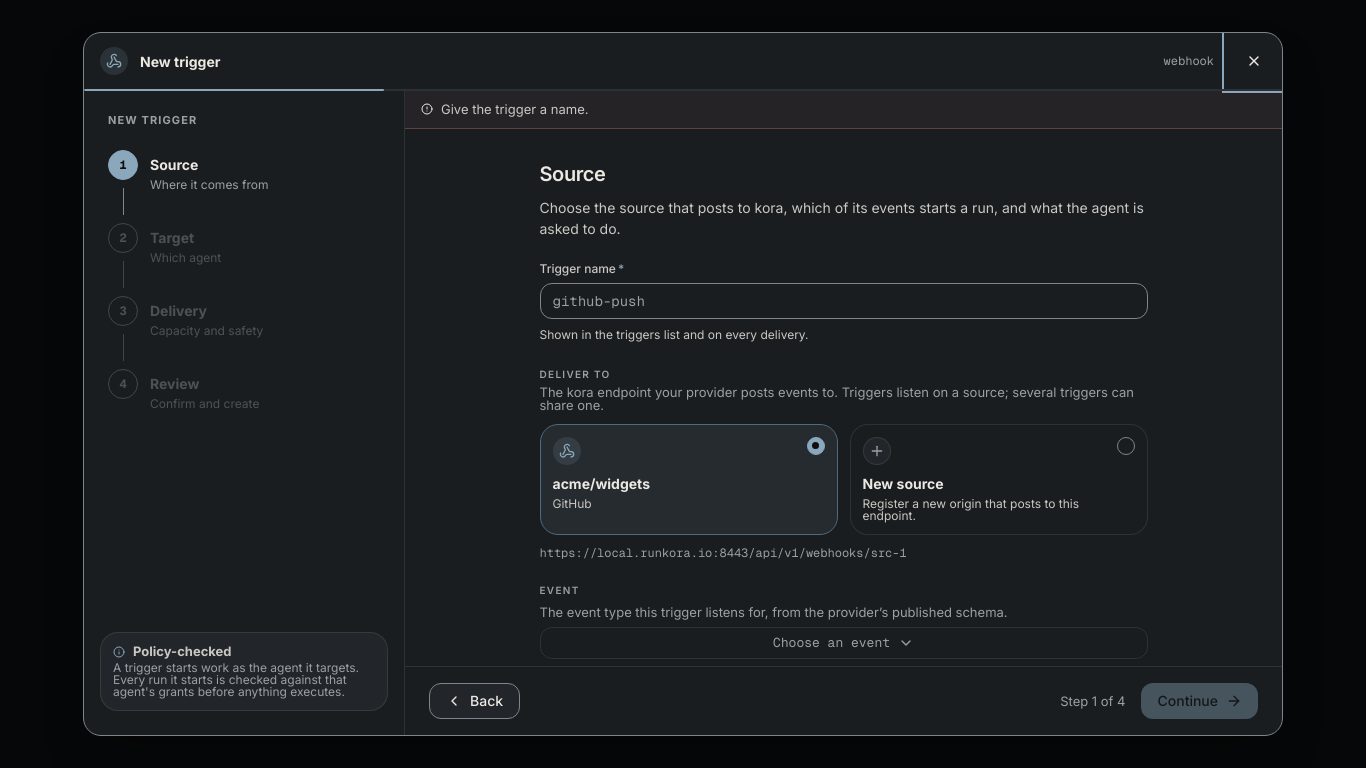
Test: filters and prompt fields › holds Continue until an event is chosen
The width and height of the screenshot is (1366, 768).
Type "gh" into the field labelled "Trigger name*".
click(844, 300); type("gh")  # box [540, 282, 1148, 318]
(page scrolled)
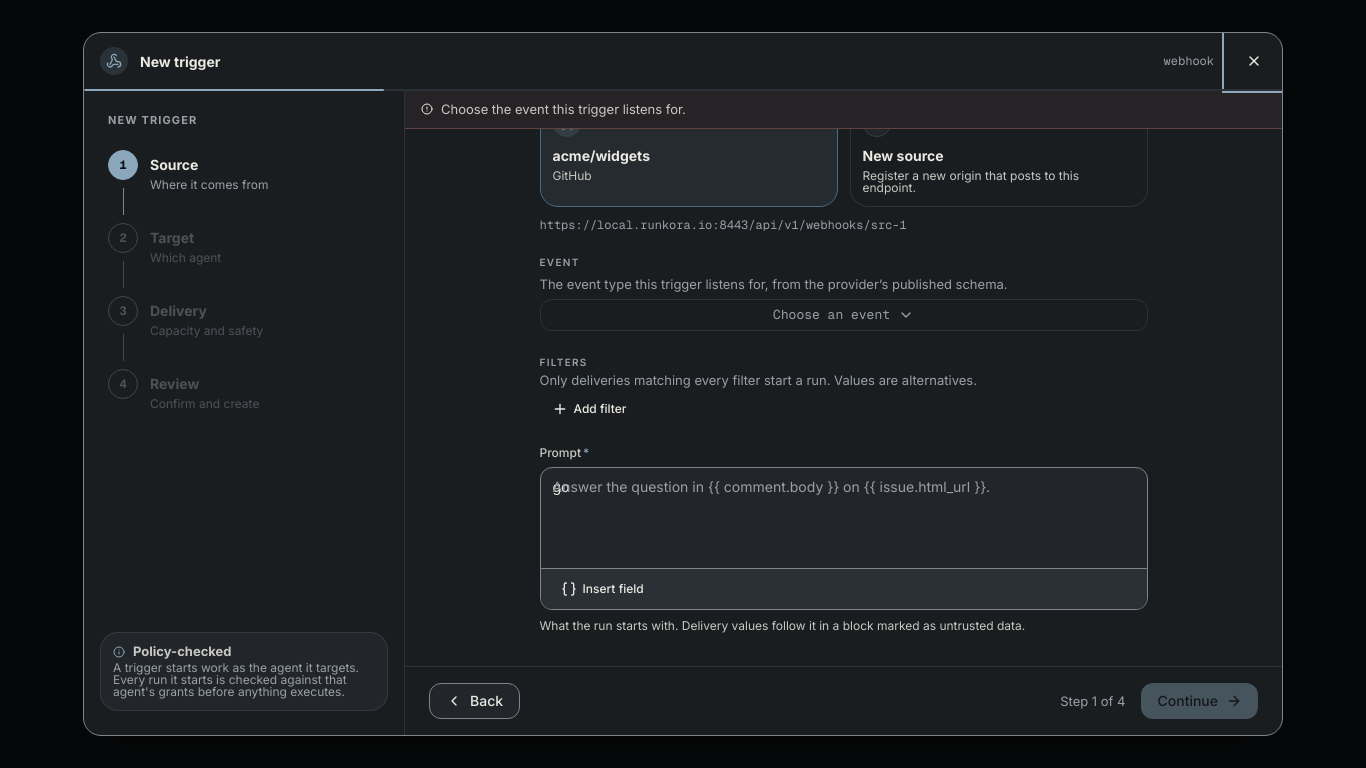
Clear the field named "Prompt" at (561, 486), box [552, 478, 570, 494]
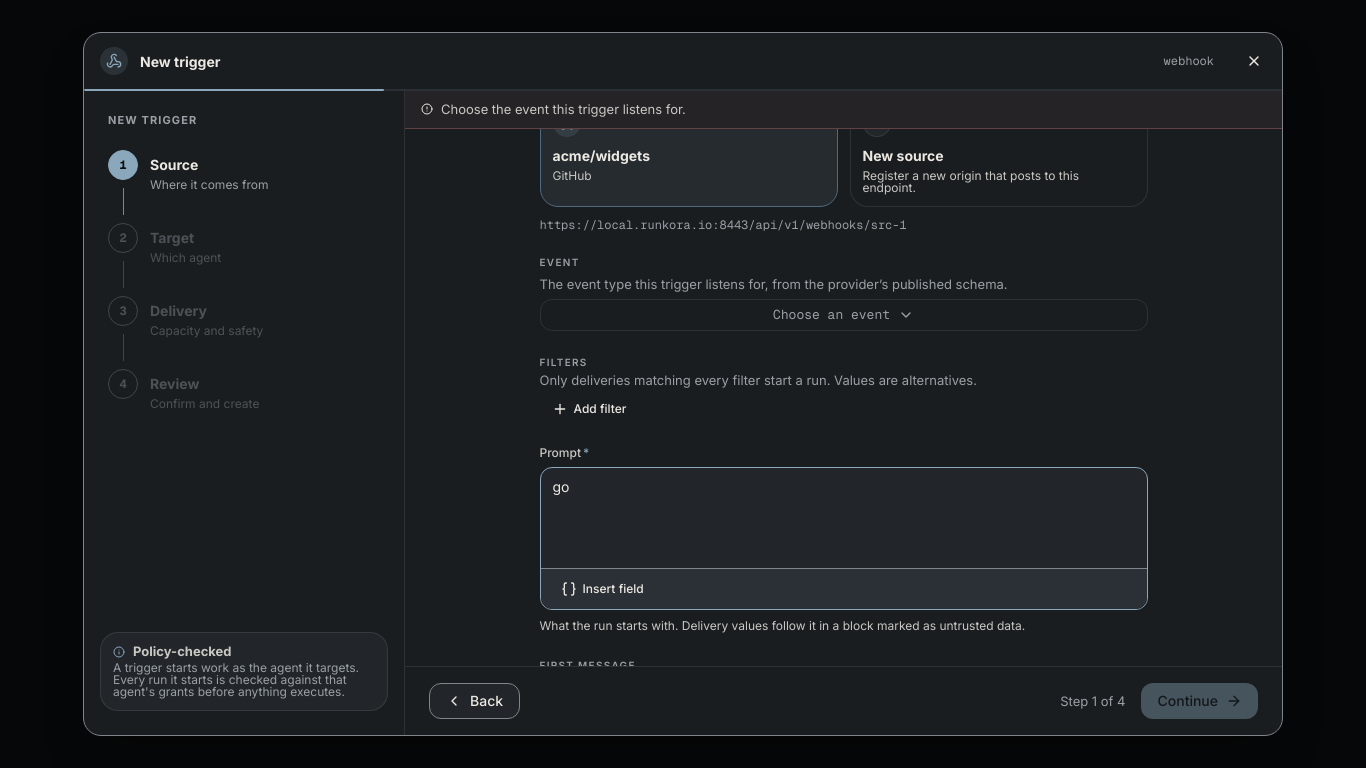
Expected: the button "Continue" is disabled, [1142, 683, 1258, 719]
Click the button with aria-label "Event type".
click(844, 314)  # box [540, 298, 1148, 330]
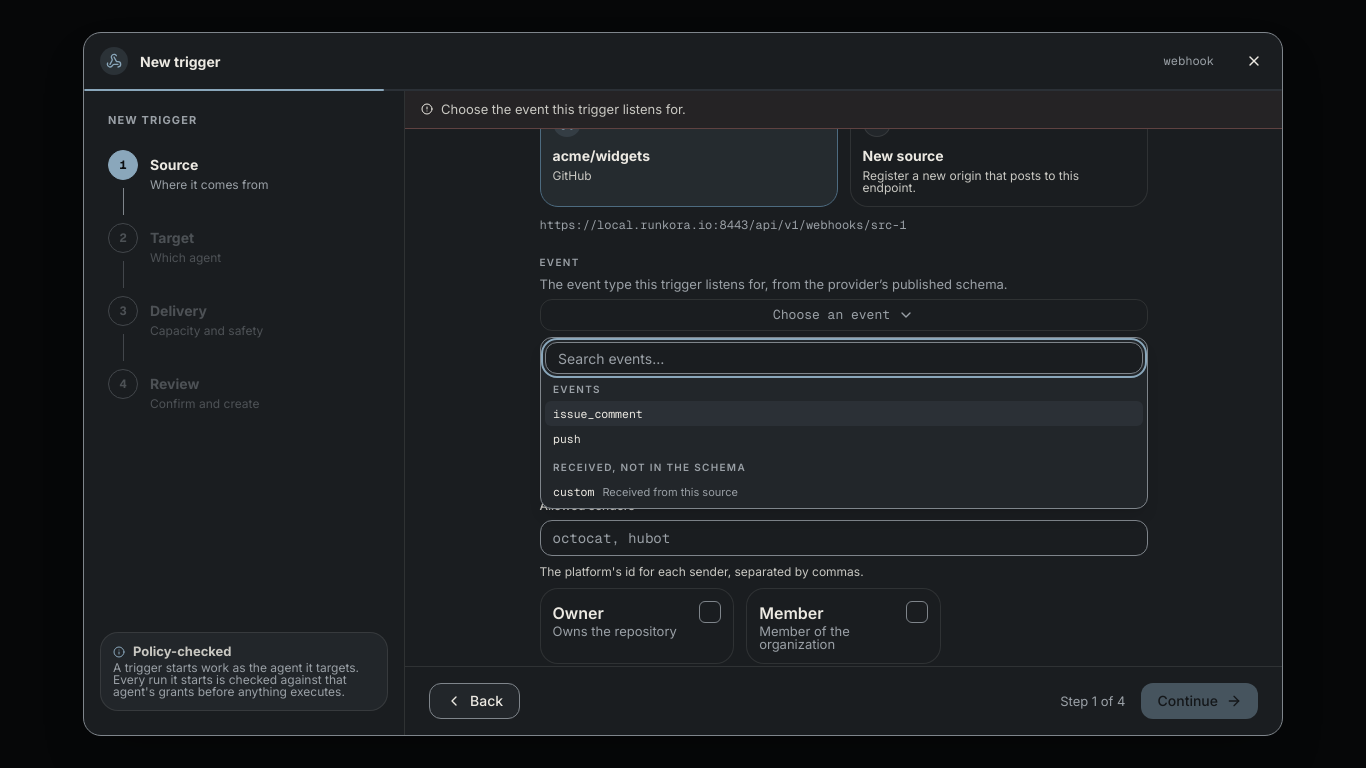
Click the button "issue_comment".
click(598, 414)  # box [545, 401, 1143, 426]
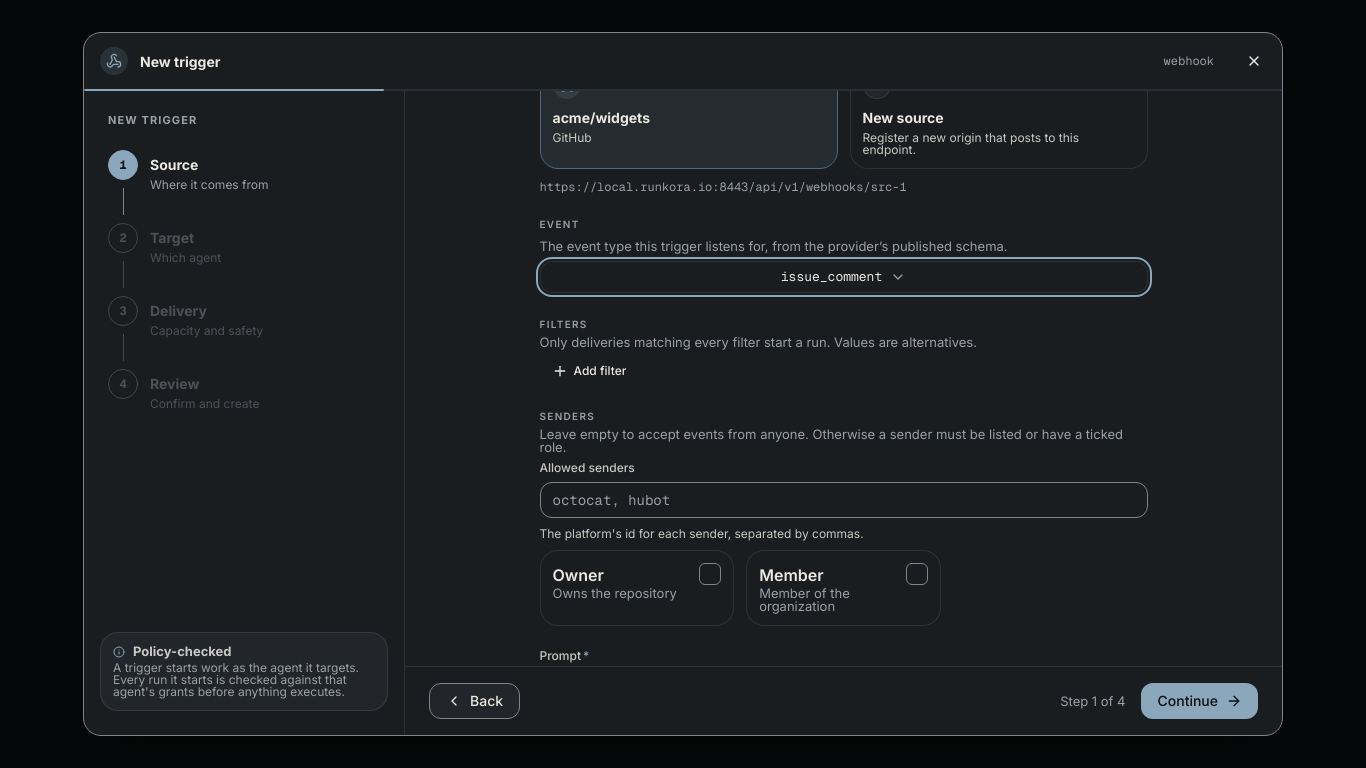
Expected: the button "Continue" is enabled, [1142, 683, 1258, 719]
